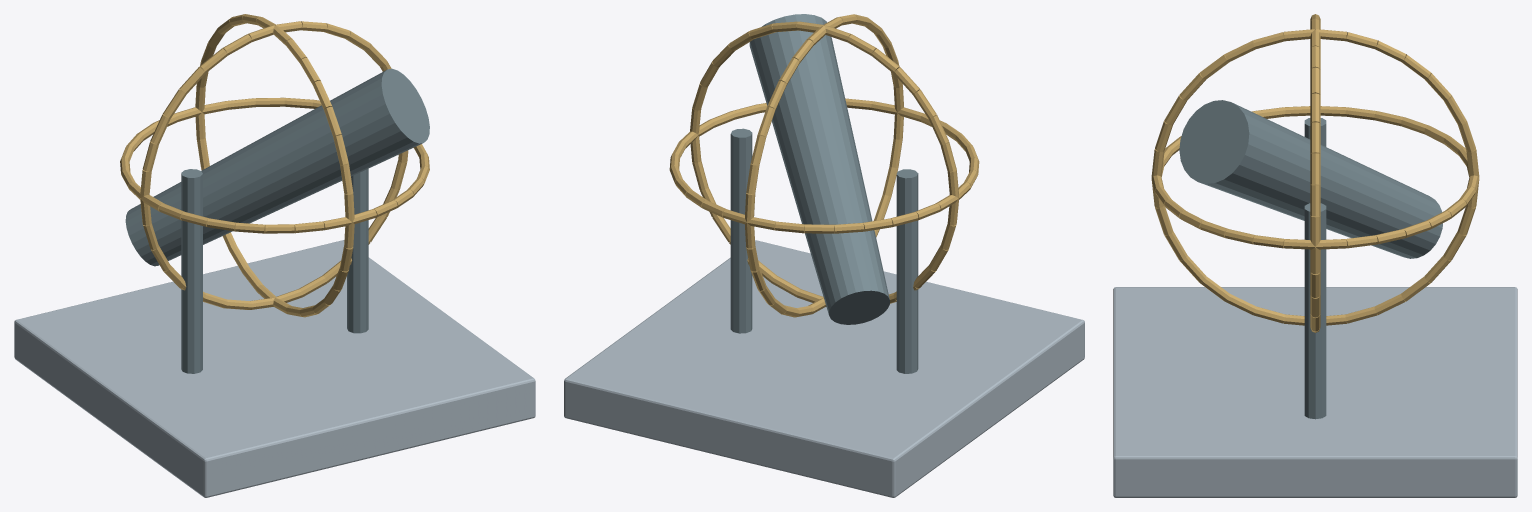
The model's file is a3_hero.glb.
The picture shows the model from 3 angles, left to right: view 1: azimuth 30°, elevation 25°; view 2: azimuth 150°, elevation 25°; view 3: azimuth 270°, elevation 25°; orthographic projection. The views are drawn at different scales.
Visible parts, largest first — view 1: Body.027; view 2: Body.027; view 3: Body.027.
Part boxes in pixels (<box>): Body.027: <box>14,14,535,497</box>; Body.027: <box>564,14,1084,497</box>; Body.027: <box>1113,14,1517,497</box>.
Bounding box in the file's own units: 2.8 × 2.93 × 2.8.
